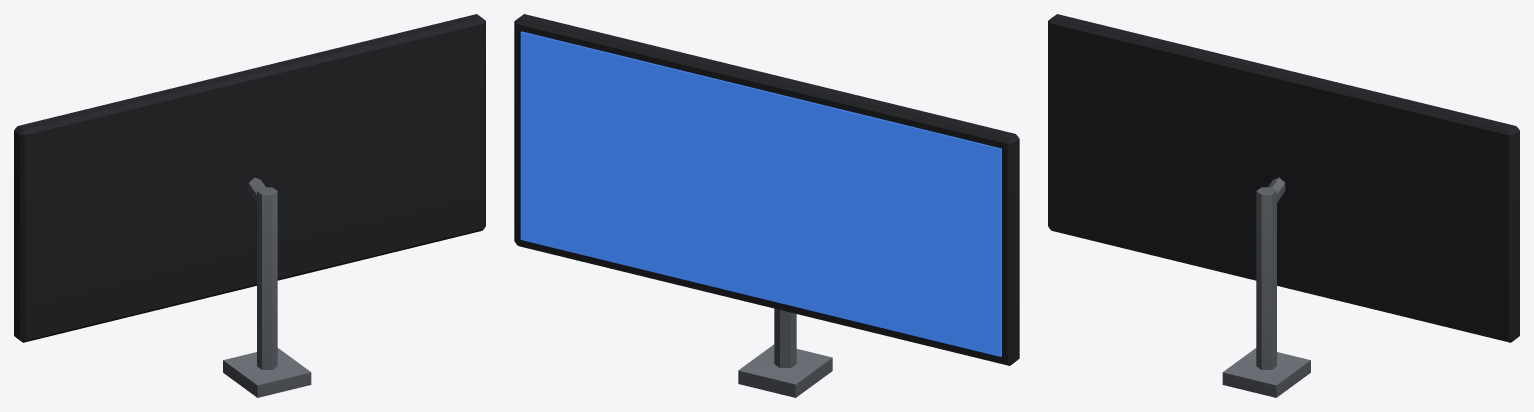
File: monitor_02.glb
The picture shows the model from 3 angles, left to right: view 1: azimuth 30°, elevation 25°; view 2: azimuth 150°, elevation 25°; view 3: azimuth 330°, elevation 25°; orthographic projection. The views are drawn at different scales.
Visible parts, largest first — view 1: monitor_02_mesh; view 2: monitor_02_screen, monitor_02_mesh; view 3: monitor_02_mesh.
Part boxes in pixels (x1=…): monitor_02_mesh: x1=14, y1=14, x2=485, y2=397; monitor_02_screen: x1=520, y1=31, x2=1001, y2=356; monitor_02_mesh: x1=514, y1=14, x2=1019, y2=397; monitor_02_mesh: x1=1048, y1=14, x2=1519, y2=397.
Bounding box in the file's own units: 0.78 × 0.47 × 0.117.
Materials: 2 (2 with a texture image).
